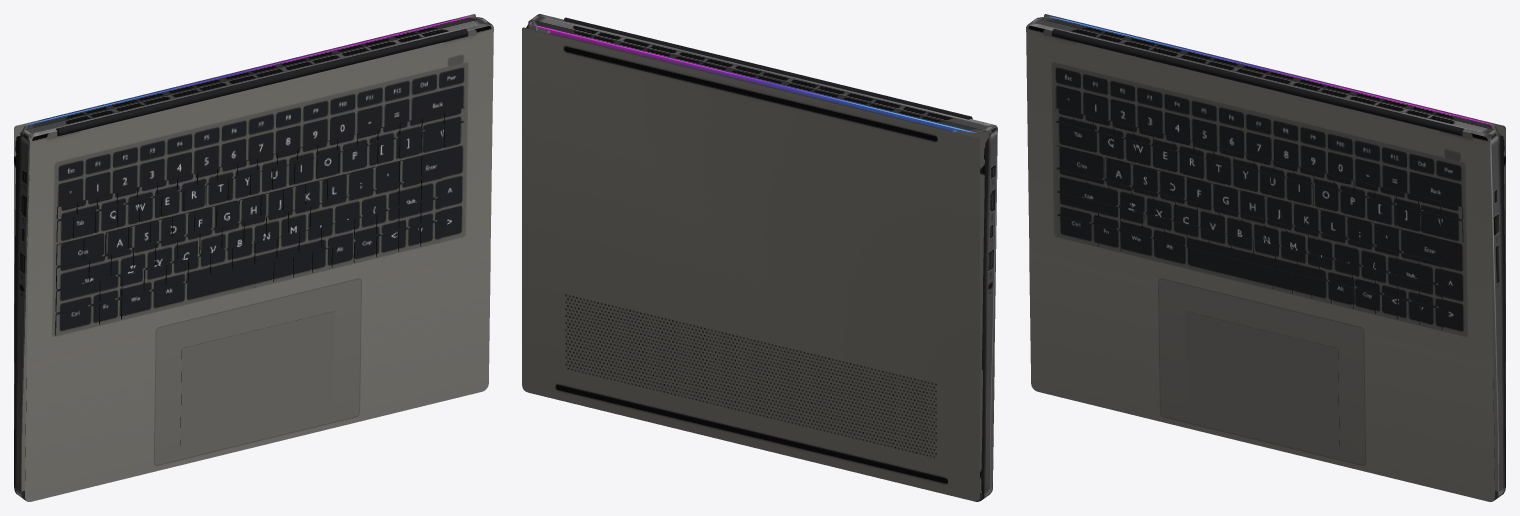
The model's file is body.obj.
3 renders of one model, left to right at view 1: azimuth 30°, elevation 25°; view 2: azimuth 150°, elevation 25°; view 3: azimuth 330°, elevation 25°, orthographic.
Visible parts, largest first — view 1: deck, keys.001, base.002, keys, base.003, hinge, base.004; view 2: base.004, base.002, base.003, deck, hinge; view 3: deck, keys.001, base.002, keys, base.001, hinge, base.004.
Boxes of the visible parts, x1,y1,x2,y2 form: deck: (25,25,493,501); keys.001: (56,108,464,335); base.002: (22,16,492,138); keys: (55,107,464,335); base.003: (14,131,29,498); hinge: (56,29,468,136); base.004: (14,14,475,491); base.004: (522,27,979,501); base.002: (530,14,996,132); base.003: (980,127,997,499); deck: (537,27,997,493); hinge: (563,17,972,119); deck: (1026,25,1494,501); keys.001: (1055,108,1462,330); base.002: (1027,16,1497,138); keys: (1055,107,1463,329); base.001: (1490,131,1505,498); hinge: (1051,29,1463,136); base.004: (1044,14,1505,491).
Bounding box in the file's own units: 404 × 309 × 28.4.
